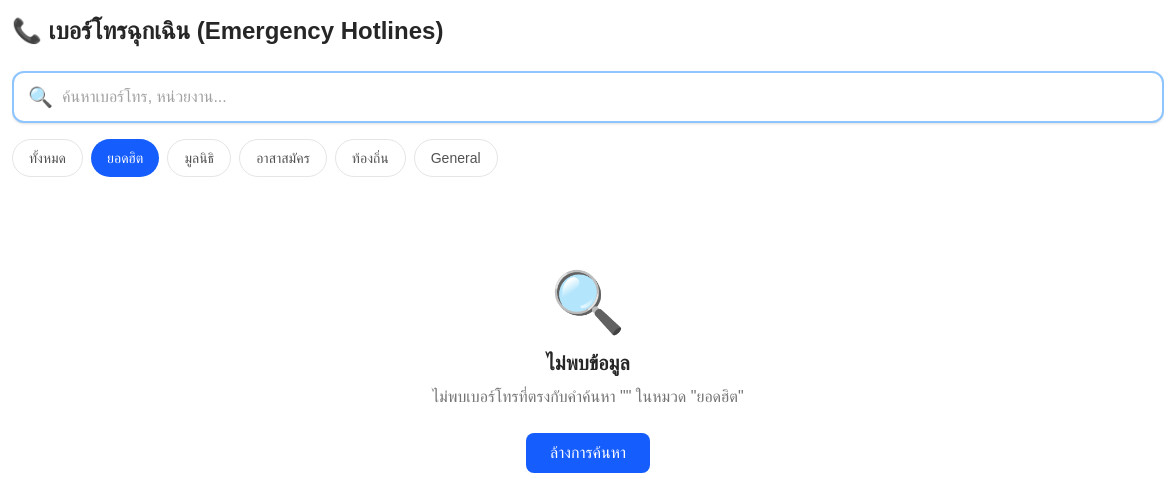
Test: HotlinesSection › sorts by ID when not popular
Note: Switch to 'General' category (or 'ทั้งหมด') to avoid 'ยอดฮิต' sort
Click the button "ทั้งหมด". click: click(48, 158)
box: [12,139,83,177]
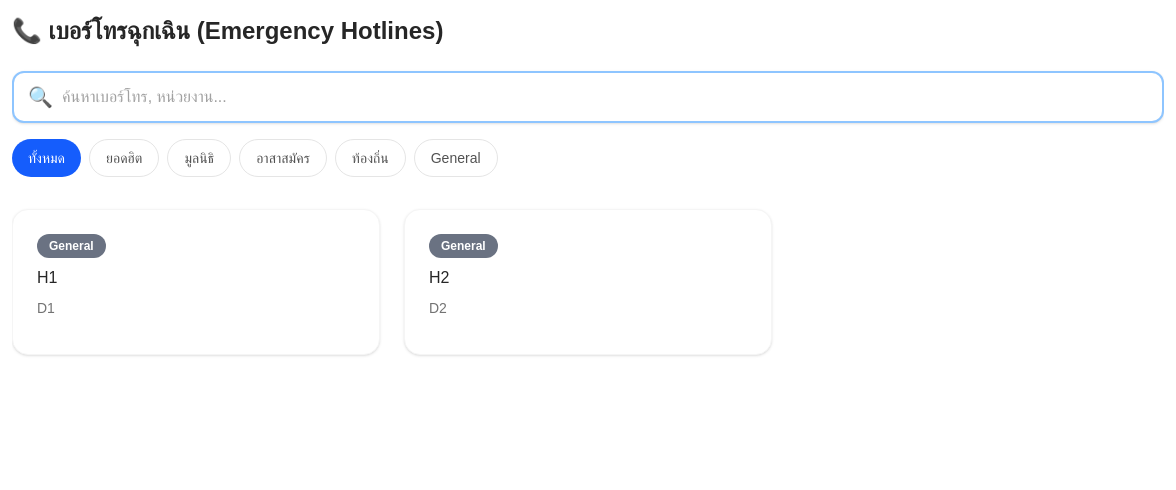
Expected: the text "H1" is shown, [37,269,58,286]
Expected: the text "H2" is shown, [429,269,450,286]
